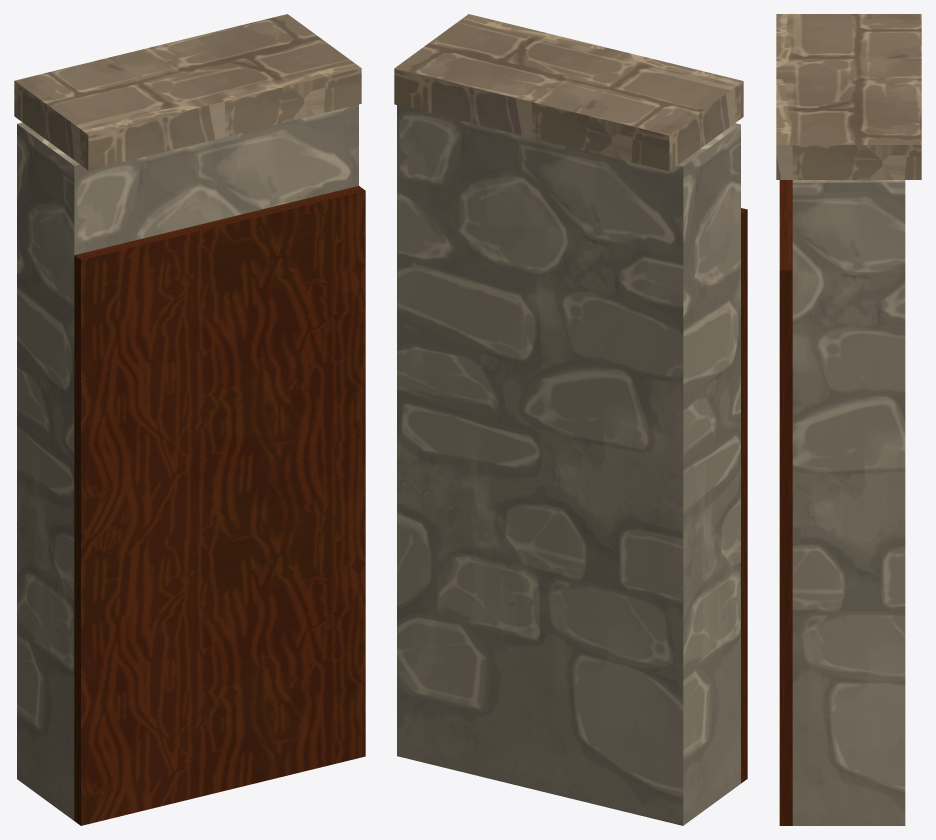
File: alley_gate.gltf
The picture shows the model from 3 angles, left to right: view 1: azimuth 30°, elevation 25°; view 2: azimuth 150°, elevation 25°; view 3: azimuth 270°, elevation 25°; orthographic projection. The views are drawn at different scales.
Parts seen in each view (by area): view 1: alley_gate; view 2: alley_gate; view 3: alley_gate.
Part boxes in pixels (x1,y1,x2,y2): alley_gate: (14,14,365,825); alley_gate: (394,14,747,825); alley_gate: (776,14,921,825).
Size of what is drawn, in the model's own units: 1 by 2.32 by 0.45.
3 materials, 3 textured.
